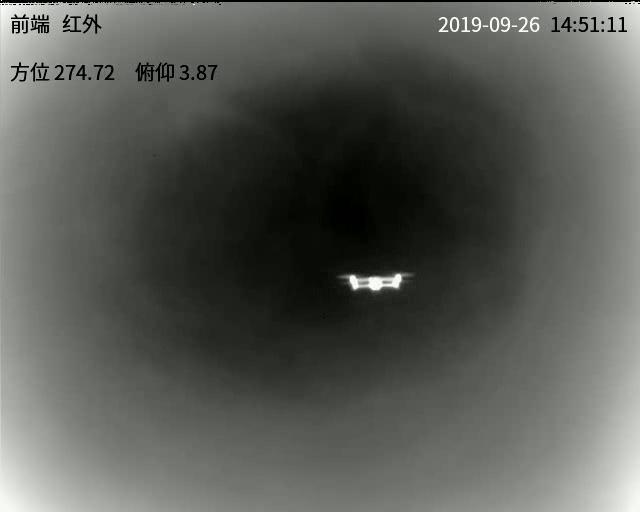DRONE: (341, 272, 406, 293)
